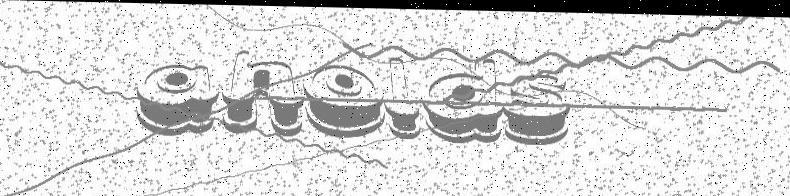a: (130, 56, 222, 136)
d: (423, 51, 503, 145)
h: (223, 45, 305, 139)
l: (385, 52, 422, 140)
o: (303, 60, 386, 136)
s: (503, 65, 573, 147)
